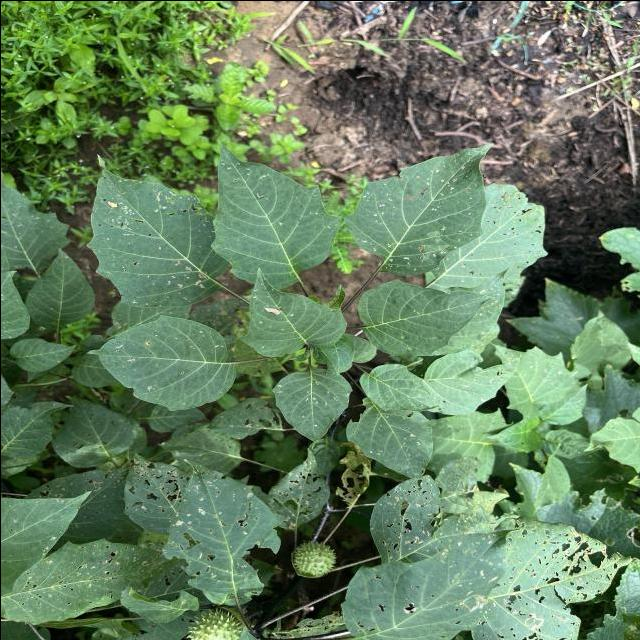Datura metal linn: (84, 152, 230, 308), (341, 141, 495, 277), (208, 137, 342, 290), (80, 312, 240, 414), (356, 276, 500, 356), (235, 265, 348, 358), (268, 364, 354, 452), (356, 361, 444, 413)
